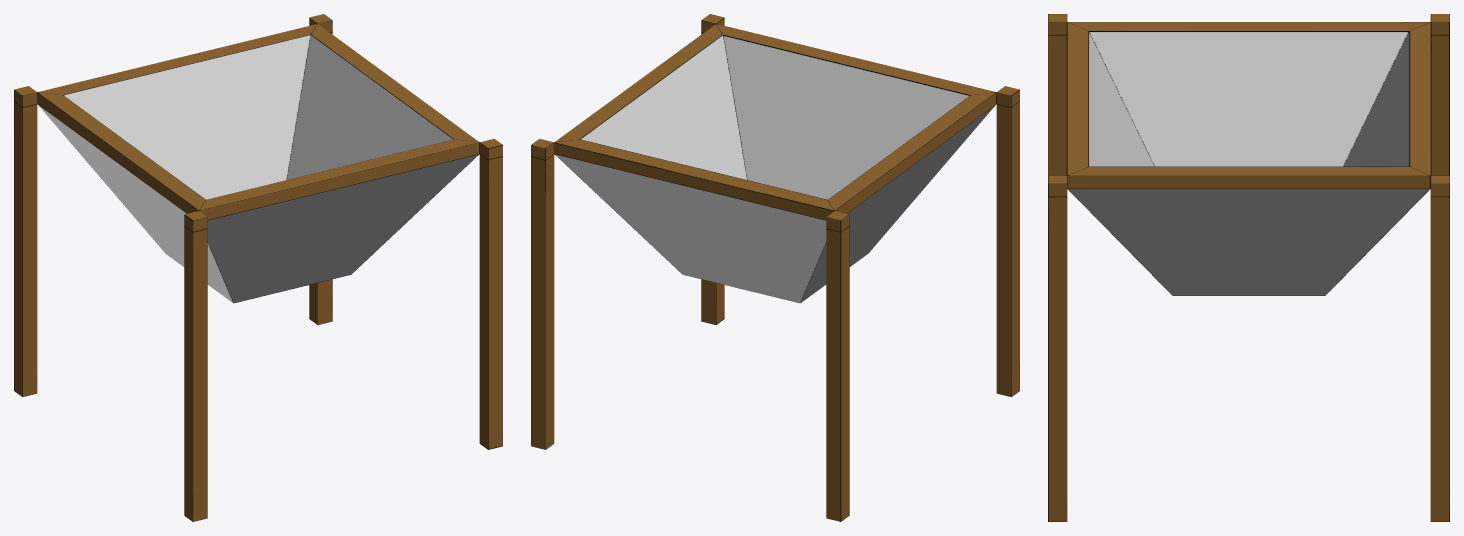
File: hopper.obj
3 renders of one model, left to right at view 1: azimuth 30°, elevation 25°; view 2: azimuth 150°, elevation 25°; view 3: azimuth 270°, elevation 25°, orthographic. The views are drawn at different scales.
Visible parts, largest first — view 1: hopper_Cube.005; view 2: hopper_Cube.005; view 3: hopper_Cube.005.
Boxes of the visible parts, left/top/right/bottom form: hopper_Cube.005: left=14, top=14, right=502, bottom=521; hopper_Cube.005: left=531, top=14, right=1019, bottom=521; hopper_Cube.005: left=1048, top=14, right=1449, bottom=521.
Bounding box in the file's own units: 4.2 × 3.9 × 4.2.
1 material, 1 textured.
